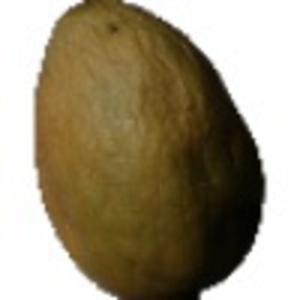mamão: (13, 3, 269, 294)
